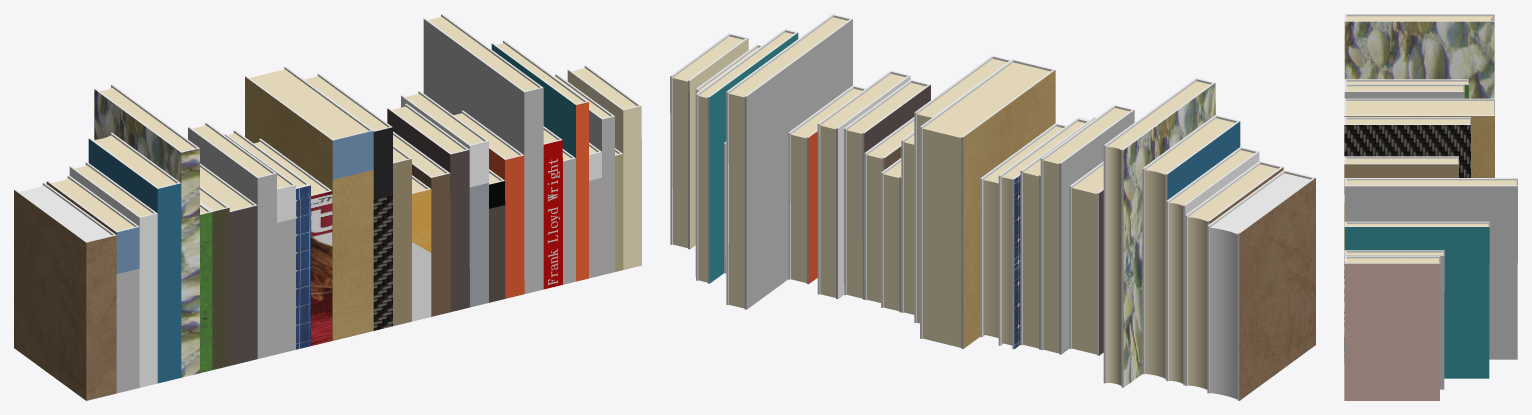
The model's file is Books.obj.
3 views of the same model, side by side, from view 1: azimuth 30°, elevation 25°; view 2: azimuth 150°, elevation 25°; view 3: azimuth 270°, elevation 25° (orthographic). The views are drawn at different scales.
Visible parts, largest first — view 1: Mesh1 Component_16_1 Model, Mesh13 Component_25_1 Model, Mesh22 Component_34_1 Model, Mesh7 Component_19_1 Model, Mesh6 Component_18_1 Model, Mesh11 Component_23_1 Model, Mesh4 Component_17_1 Model, Mesh10 Component_22_1 Model, Mesh18 Component_30_1 Model, Mesh42 Component_38_1 Model, Mesh14 Component_26_1 Model, Mesh5 Component_14_1 Model (+17 smaller); view 2: Mesh13 Component_25_1 Model, Mesh1 Component_16_1 Model, Mesh22 Component_34_1 Model, Mesh7 Component_19_1 Model, Mesh6 Component_18_1 Model, Mesh11 Component_23_1 Model, Mesh42 Component_38_1 Model, Mesh19 Component_31_1 Model, Mesh10 Component_22_1 Model, Mesh46 Component_43_1 Model, Mesh18 Component_30_1 Model, Mesh4 Component_17_1 Model (+9 smaller); view 3: Mesh46 Component_43_1 Model, Mesh22 Component_34_1 Model, Mesh7 Component_19_1 Model, Mesh42 Component_38_1 Model, Mesh14 Component_26_1 Model, Mesh13 Component_25_1 Model, Mesh15 Component_27_1 Model, Mesh11 Component_23_1 Model, Mesh44 Component_40_1 Model, Mesh8 Component_20_1 Model.
Part boxes in pixels (x1,y1,x2,y2): Mesh1 Component_16_1 Model: (14,182,116,400); Mesh13 Component_25_1 Model: (245,66,373,340); Mesh22 Component_34_1 Model: (423,14,543,293); Mesh7 Component_19_1 Model: (94,84,199,377); Mesh6 Component_18_1 Model: (88,132,181,383); Mesh11 Component_23_1 Model: (188,122,276,358); Mesh4 Component_17_1 Model: (46,175,139,393); Mesh10 Component_22_1 Model: (200,163,257,365); Mesh18 Component_30_1 Model: (387,103,469,311); Mesh42 Component_38_1 Model: (491,40,588,281); Mesh14 Component_26_1 Model: (301,73,392,330); Mesh5 Component_14_1 Model: (69,162,157,387); Mesh13 Component_25_1 Model: (920,59,1055,348); Mesh1 Component_16_1 Model: (1207,170,1315,400); Mesh22 Component_34_1 Model: (726,14,852,309); Mesh7 Component_19_1 Model: (1103,78,1215,387); Mesh6 Component_18_1 Model: (1142,115,1240,379); Mesh11 Component_23_1 Model: (1040,104,1134,354); Mesh42 Component_38_1 Model: (695,29,798,283); Mesh19 Component_31_1 Model: (817,70,910,299); Mesh10 Component_22_1 Model: (1069,161,1103,355); Mesh46 Component_43_1 Model: (670,33,748,249); Mesh18 Component_30_1 Model: (844,79,930,299); Mesh4 Component_17_1 Model: (1185,161,1283,389); Mesh46 Component_43_1 Model: (1344,256,1440,400); Mesh22 Component_34_1 Model: (1344,178,1517,359); Mesh7 Component_19_1 Model: (1344,14,1494,98); Mesh42 Component_38_1 Model: (1344,221,1489,378); Mesh14 Component_26_1 Model: (1344,117,1470,177); Mesh13 Component_25_1 Model: (1344,98,1494,177); Mesh15 Component_27_1 Model: (1344,156,1458,194); Mesh11 Component_23_1 Model: (1344,84,1464,98); Mesh44 Component_40_1 Model: (1344,250,1444,389); Mesh8 Component_20_1 Model: (1344,79,1468,98).
Size of the model in its own units: 35.29 by 13.66 by 11.13.
